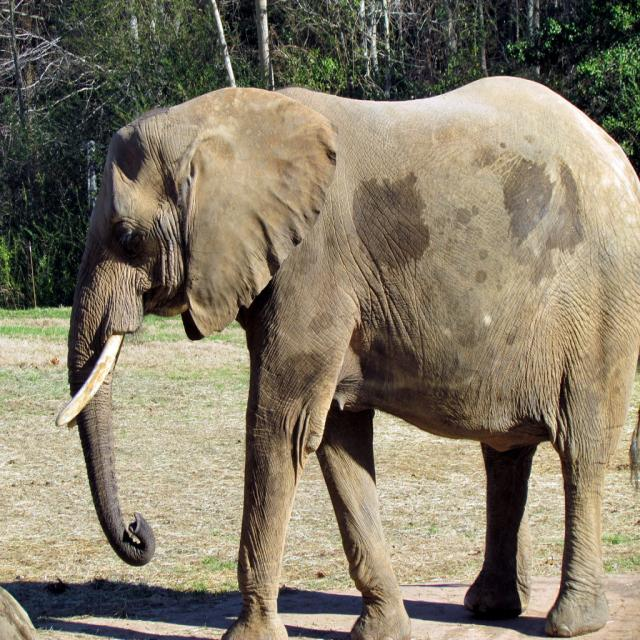Elephant: (55, 80, 640, 640)
